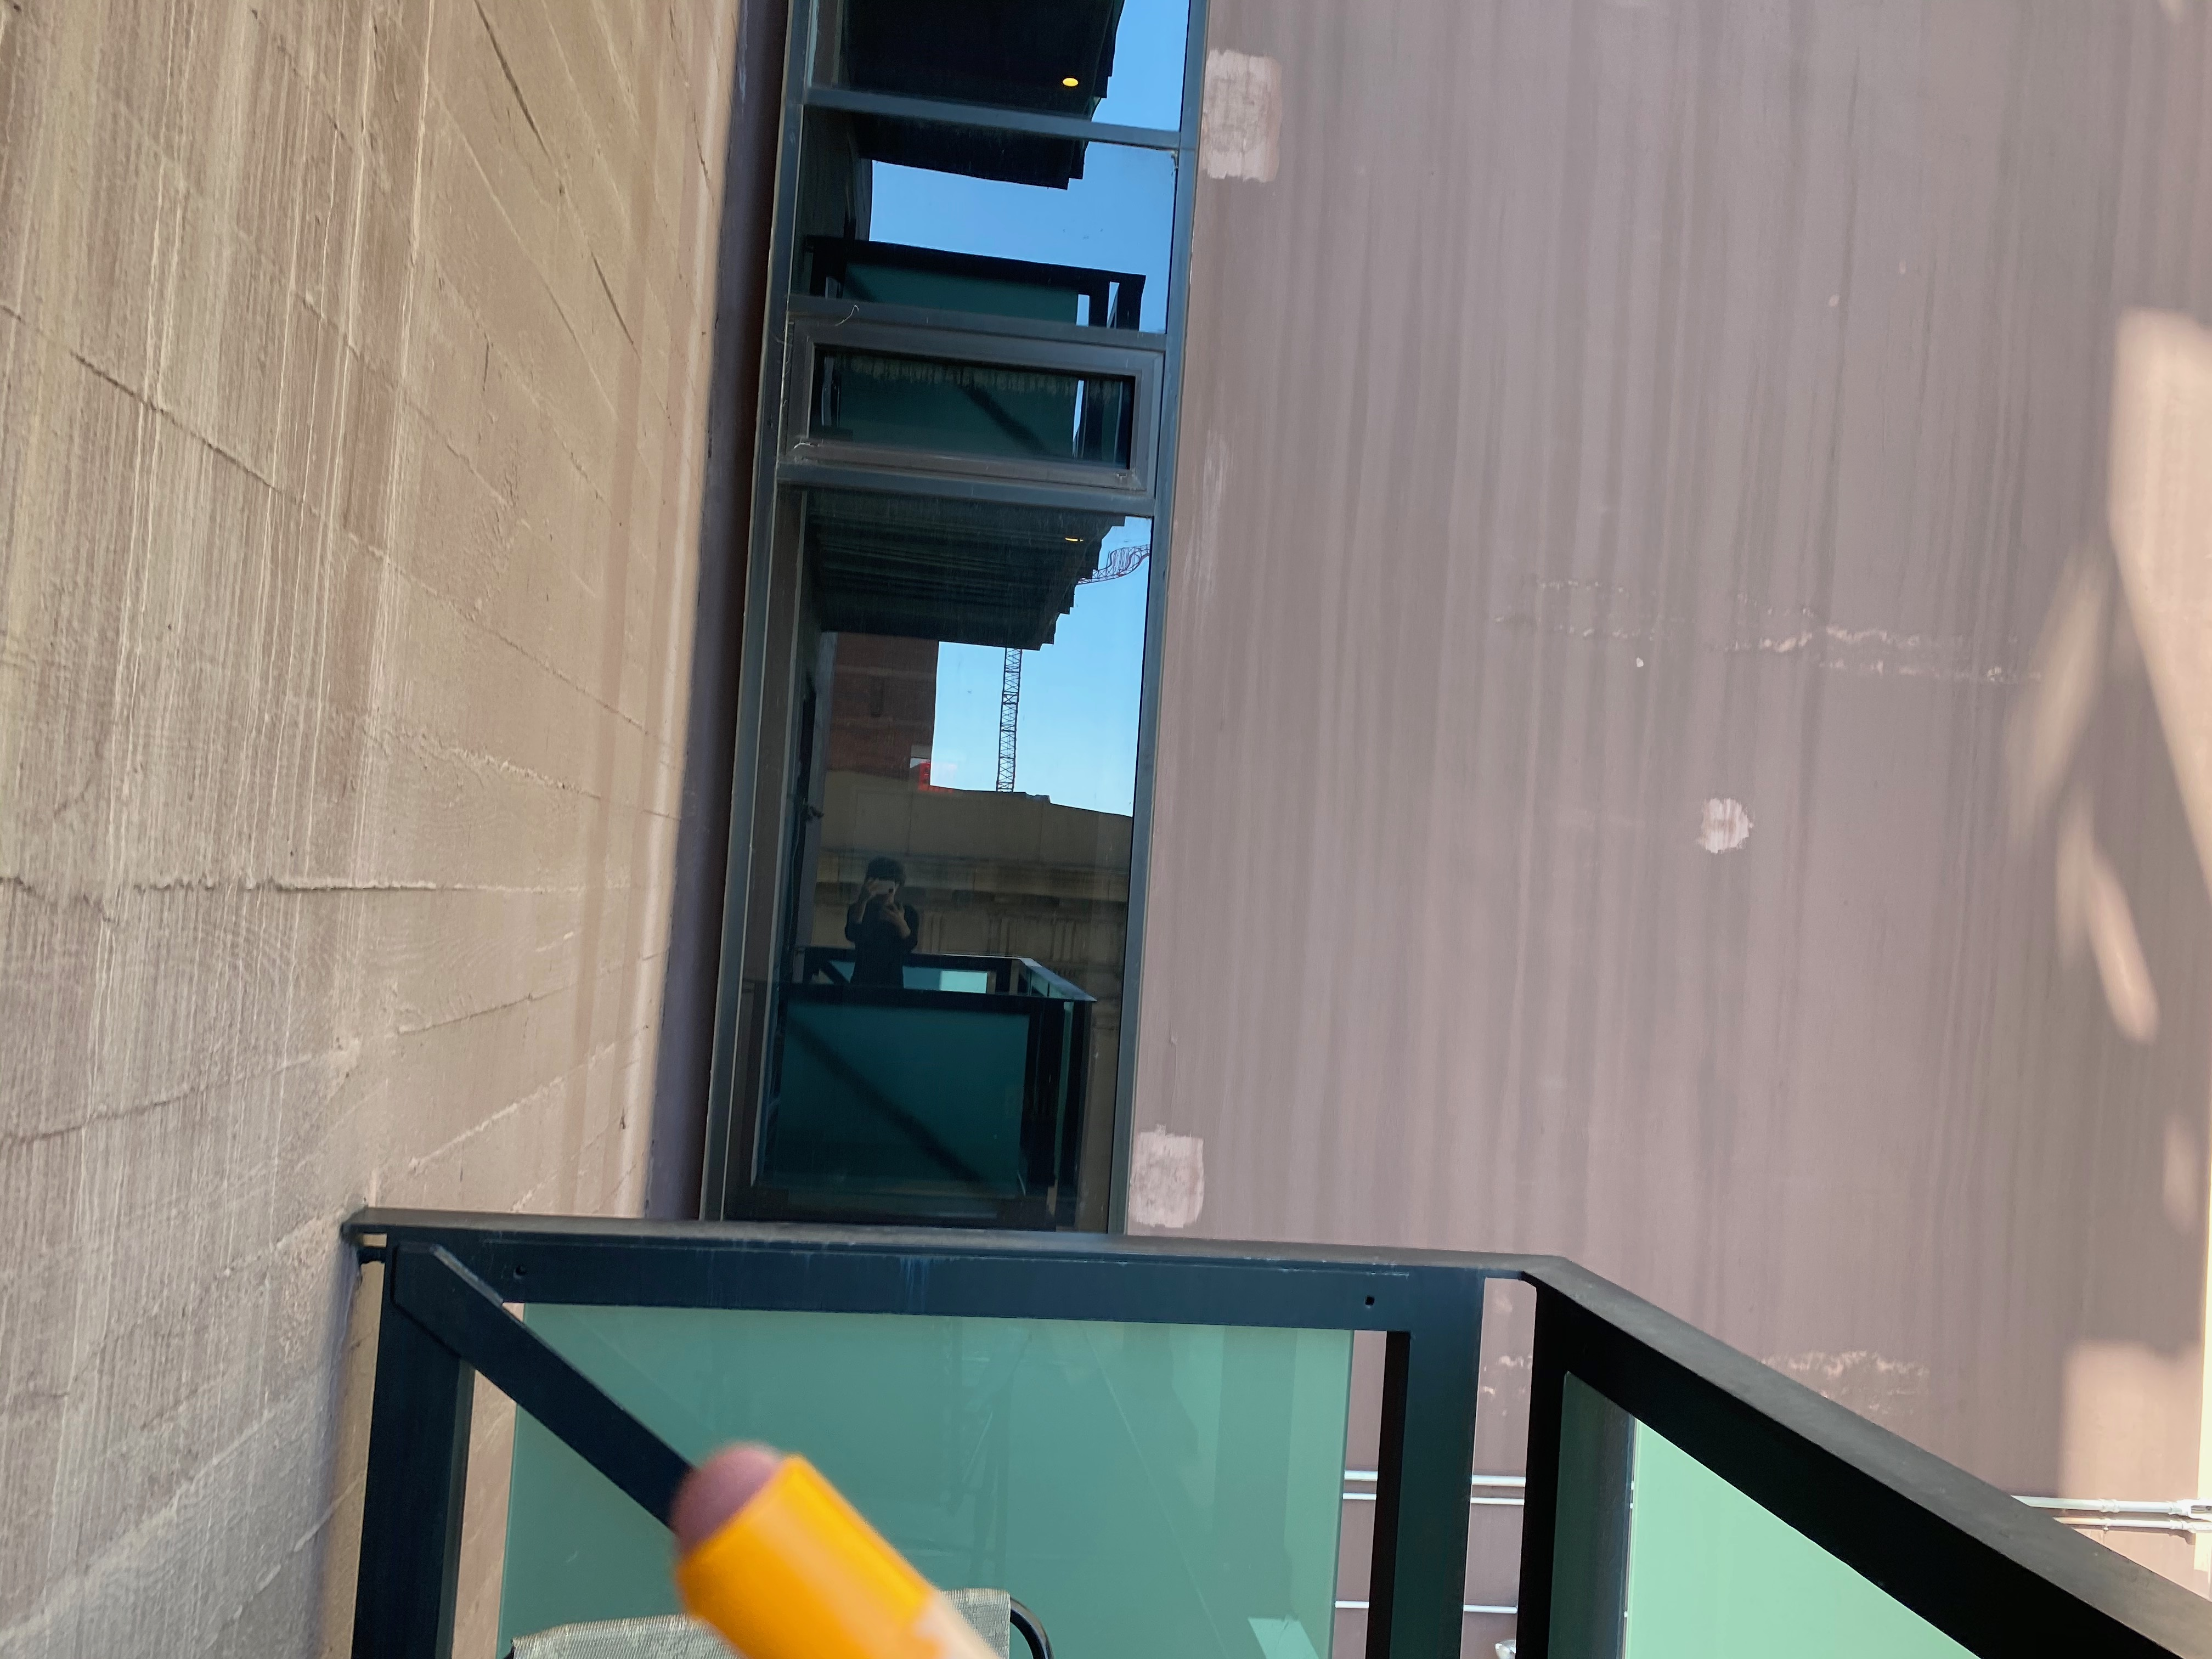fingertip: (653, 1439, 923, 1659)
